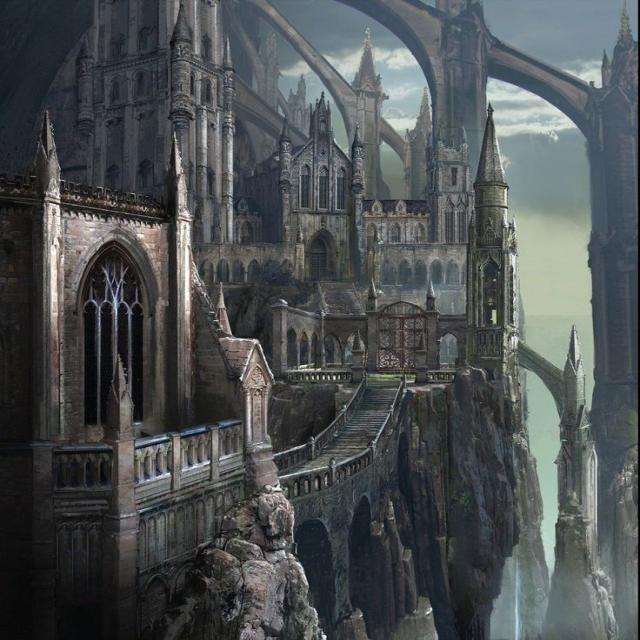castle: (0, 1, 542, 540)
